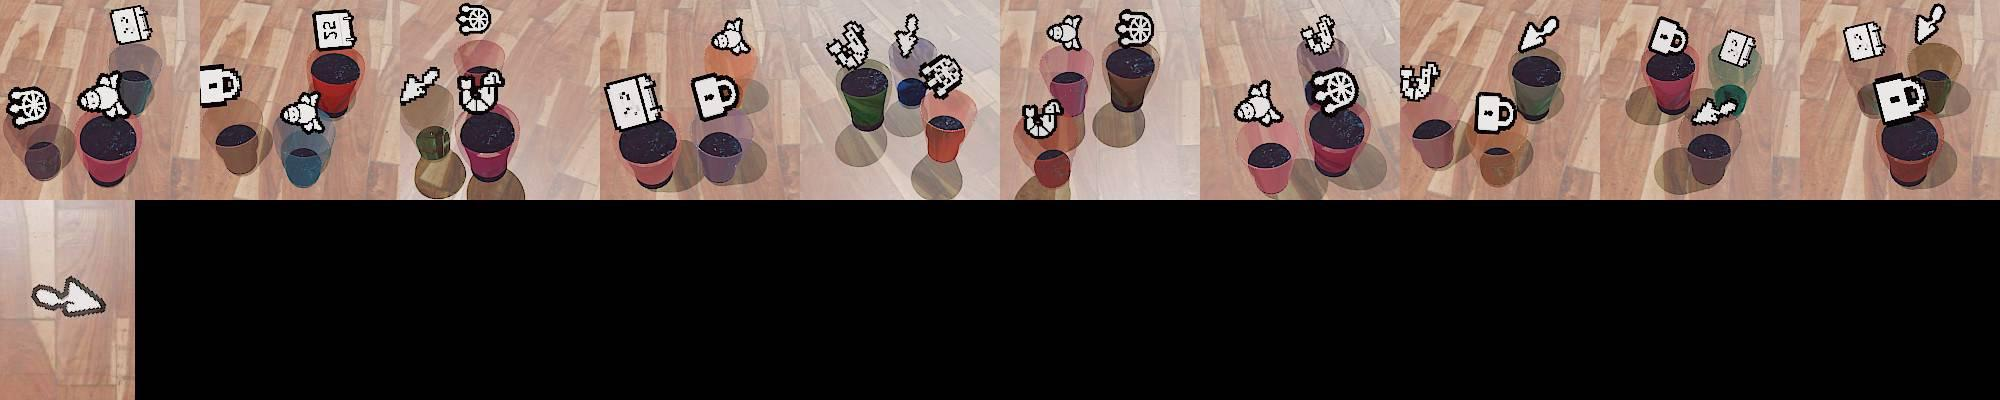icon: (603, 74, 665, 132), (31, 275, 108, 316), (1871, 74, 1927, 122), (75, 70, 130, 118), (689, 73, 740, 122), (457, 68, 506, 115), (1310, 68, 1358, 115), (917, 52, 963, 101), (1236, 78, 1282, 126), (279, 88, 325, 134), (199, 64, 245, 108), (827, 19, 869, 68), (310, 9, 356, 52), (5, 87, 52, 129), (1474, 90, 1518, 135), (107, 4, 152, 46), (1843, 20, 1886, 62), (1517, 14, 1561, 54), (1020, 97, 1061, 139), (1648, 15, 1690, 56), (399, 66, 441, 106), (1301, 13, 1339, 56), (1402, 60, 1440, 103), (712, 15, 751, 56), (1115, 9, 1156, 48), (1717, 28, 1758, 68), (1690, 93, 1736, 126), (1046, 14, 1083, 55), (1915, 4, 1948, 45), (893, 13, 922, 57), (455, 3, 492, 37)
